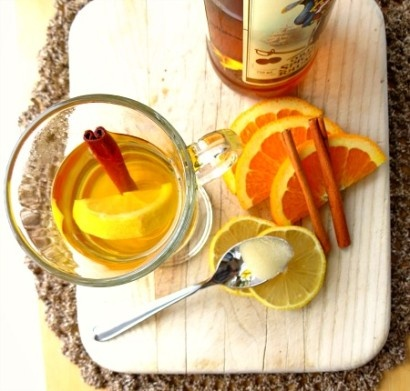background: (118, 0, 247, 190), (32, 79, 114, 166)
